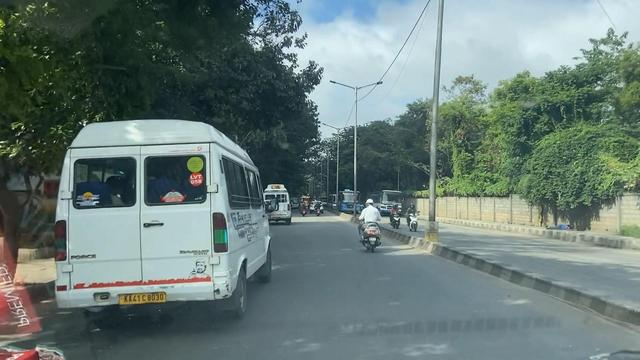HMV: (59, 125, 276, 316), (264, 182, 296, 223)
LMV: (355, 197, 386, 253)
